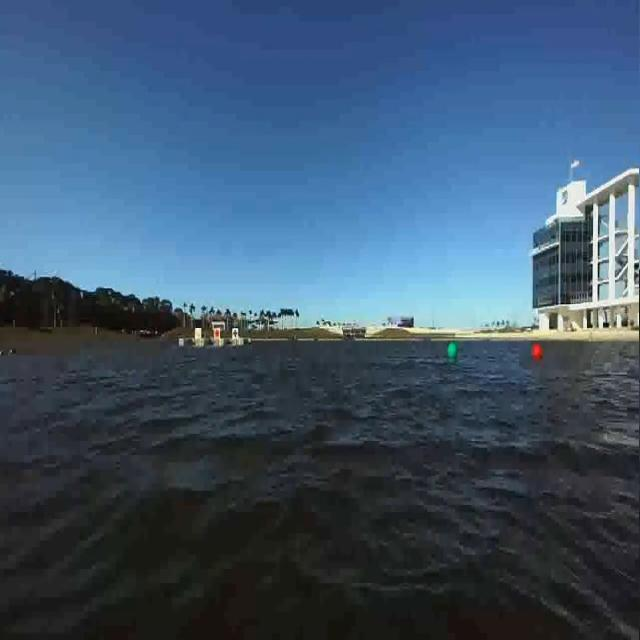green-buoy: (448, 343, 460, 361)
red-buoy: (531, 344, 543, 361)
